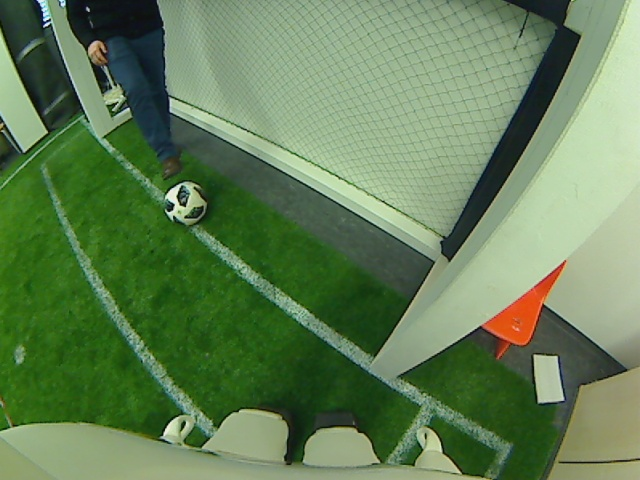ball: (163, 180, 209, 227)
